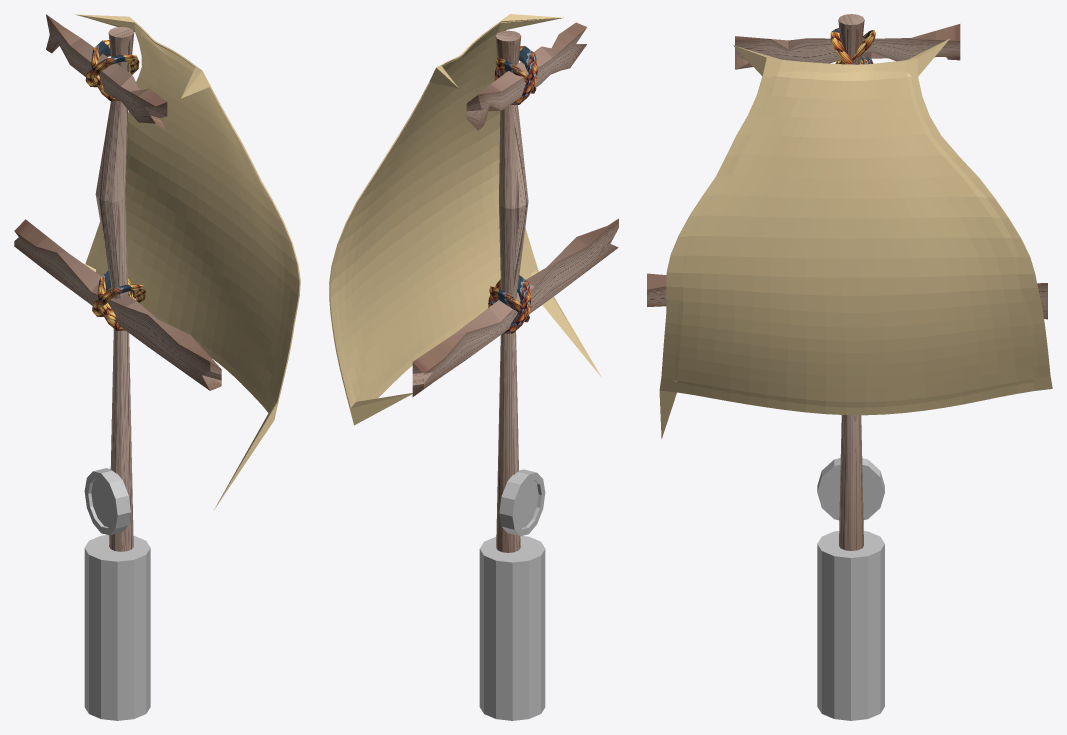
Rendered from VelaJangadaFamilia.fbx.
3 views of the same model, side by side, from view 1: azimuth 30°, elevation 25°; view 2: azimuth 150°, elevation 25°; view 3: azimuth 270°, elevation 25° (orthographic). The views are drawn at different scales.
Parts seen in each view (by area): view 1: Plane, Circle, Mastro, Tabua do Mastro 1, Tabua do Mastro 2, Circle.002, Torus.001, Torus.002; view 2: Plane, Circle, Mastro, Tabua do Mastro 1, Tabua do Mastro 2, Circle.002, Torus.001, Torus.002; view 3: Plane, Circle, Tabua do Mastro 2, Mastro, Circle.002, Tabua do Mastro 1, Torus.002.
Boxes of the visible parts, x1,y1,x2,y2 form: Plane: (74, 14, 300, 509); Circle: (84, 535, 150, 720); Mastro: (95, 27, 134, 551); Tabua do Mastro 1: (14, 219, 221, 390); Tabua do Mastro 2: (46, 14, 167, 130); Circle.002: (84, 468, 130, 535); Torus.001: (92, 270, 145, 330); Torus.002: (85, 40, 139, 101); Plane: (329, 14, 601, 425); Circle: (479, 536, 545, 720); Mastro: (495, 30, 528, 552); Tabua do Mastro 1: (412, 218, 618, 396); Tabua do Mastro 2: (466, 22, 586, 130); Circle.002: (499, 469, 545, 536); Torus.001: (488, 275, 531, 333); Torus.002: (494, 46, 537, 104); Plane: (659, 39, 1052, 438); Circle: (817, 531, 884, 720); Tabua do Mastro 2: (735, 24, 960, 69); Mastro: (838, 14, 864, 550); Circle.002: (817, 458, 884, 520); Tabua do Mastro 1: (647, 273, 1047, 319); Torus.002: (830, 28, 875, 64).
Bounding box in the file's own units: 236 × 1135 × 606.
